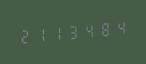eight: (97, 17, 112, 40)
four: (113, 16, 128, 39), (81, 19, 96, 41)
one: (33, 23, 48, 46), (49, 22, 64, 44)
three: (65, 20, 80, 43)
two: (17, 24, 32, 47)
